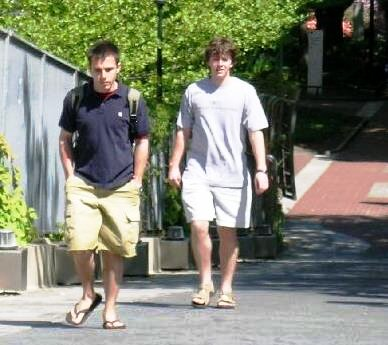person: (48, 39, 152, 330), (173, 37, 277, 313)
